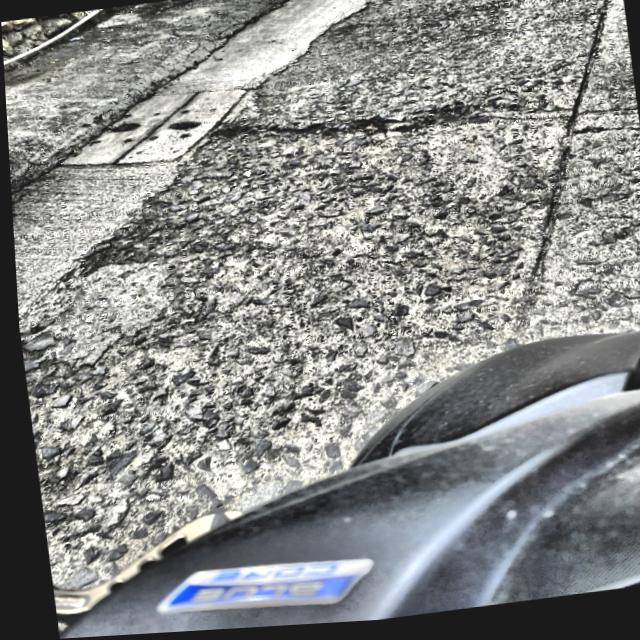major_scaling: (26, 146, 555, 589)
